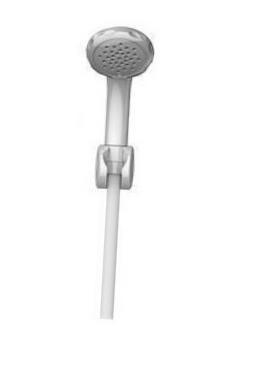Ducha: (74, 17, 163, 325)
